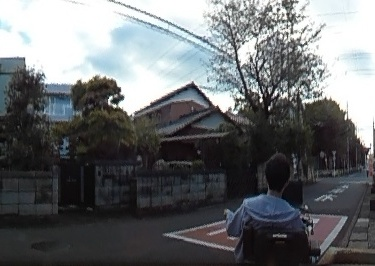person: (220, 154, 312, 266)
